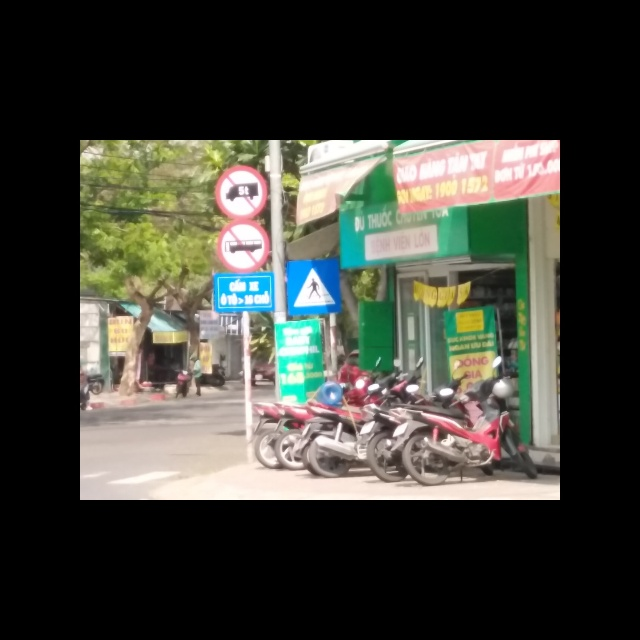Cấm xe tải: (214, 166, 268, 220)
Cấm xe xe khách: (218, 220, 270, 272)
Đường dành cho người đi bộ: (286, 258, 342, 316)
